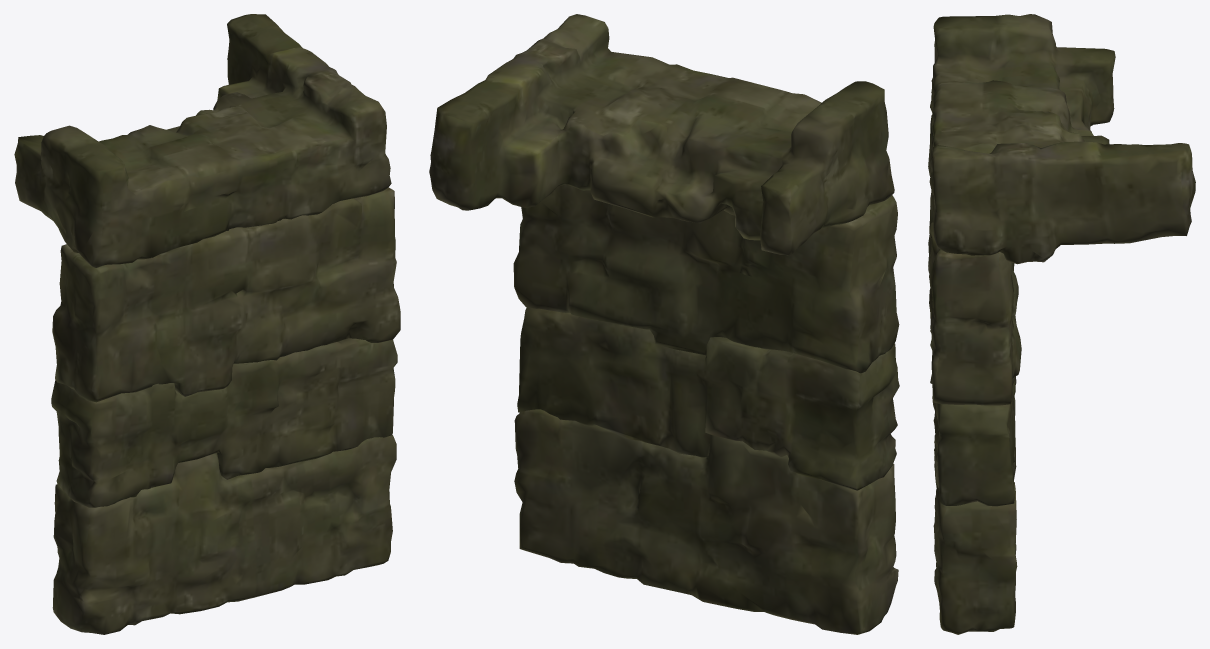
Rendered from Ruins_BrokenArch-transformed.glb.
The picture shows the model from 3 angles, left to right: view 1: azimuth 30°, elevation 25°; view 2: azimuth 150°, elevation 25°; view 3: azimuth 270°, elevation 25°; orthographic projection. The views are drawn at different scales.
Parts seen in each view (by area): view 1: Ruins_BrokenArch; view 2: Ruins_BrokenArch; view 3: Ruins_BrokenArch.
Part boxes in pixels (x1=…): Ruins_BrokenArch: x1=14, y1=14, x2=400, y2=634; Ruins_BrokenArch: x1=429, y1=14, x2=899, y2=634; Ruins_BrokenArch: x1=928, y1=14, x2=1195, y2=634.
Bounding box in the file's own units: 4.96 × 7.09 × 3.58.
Materials: 1 (1 with a texture image).
